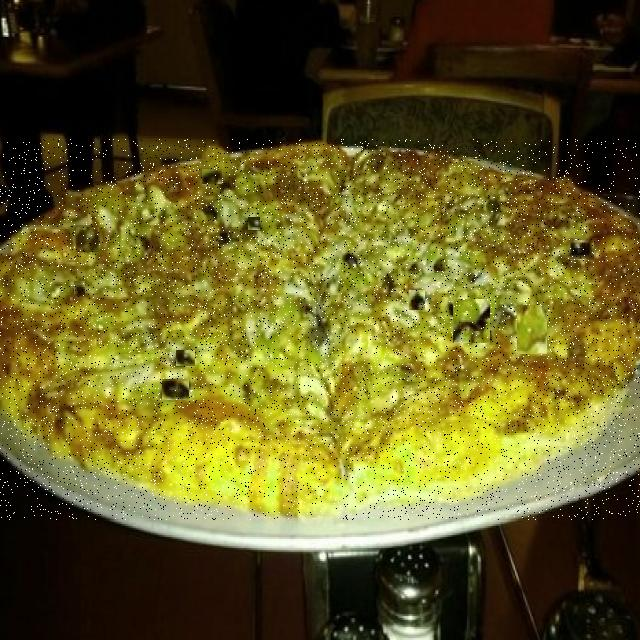Olives: (453, 300, 490, 343), (517, 306, 547, 354), (76, 228, 99, 252), (162, 380, 189, 400), (571, 241, 594, 259), (409, 291, 425, 310), (176, 351, 195, 366), (202, 170, 222, 184), (204, 205, 218, 222), (74, 282, 85, 296), (248, 218, 260, 230), (220, 234, 230, 243)
Pizza: (0, 140, 640, 520)
